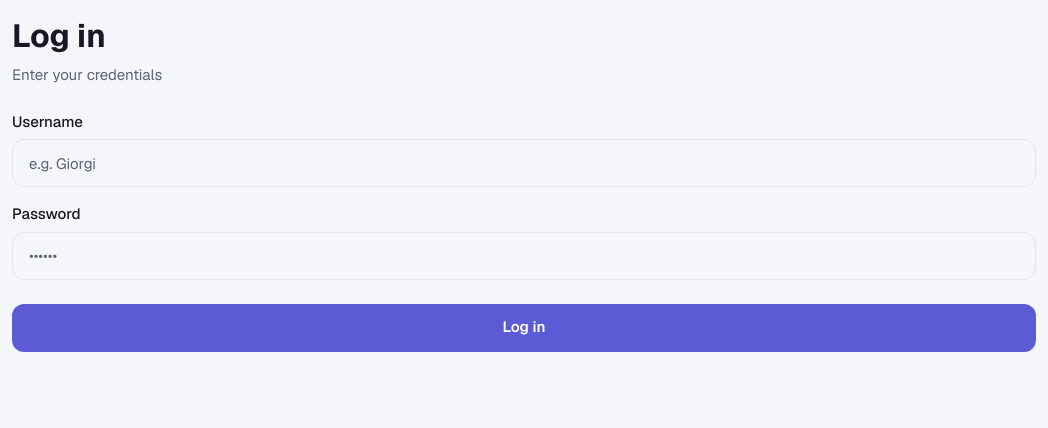
Test: LoginForm › shows an error and clears the password on wrong credentials
In the field labelled "Username": (524, 163) [12,139,1036,187], type "Giorgi"
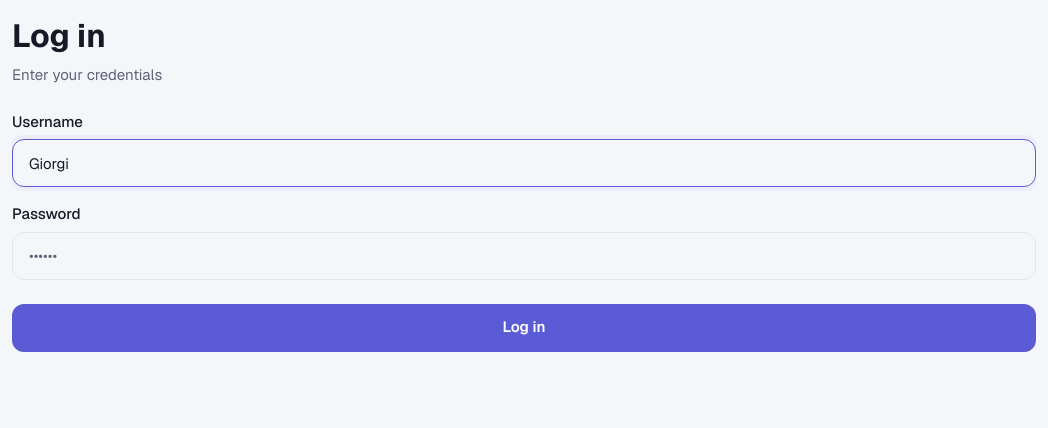
In the password field labelled "Password": (524, 256) [12,232,1036,280], type "wrong"
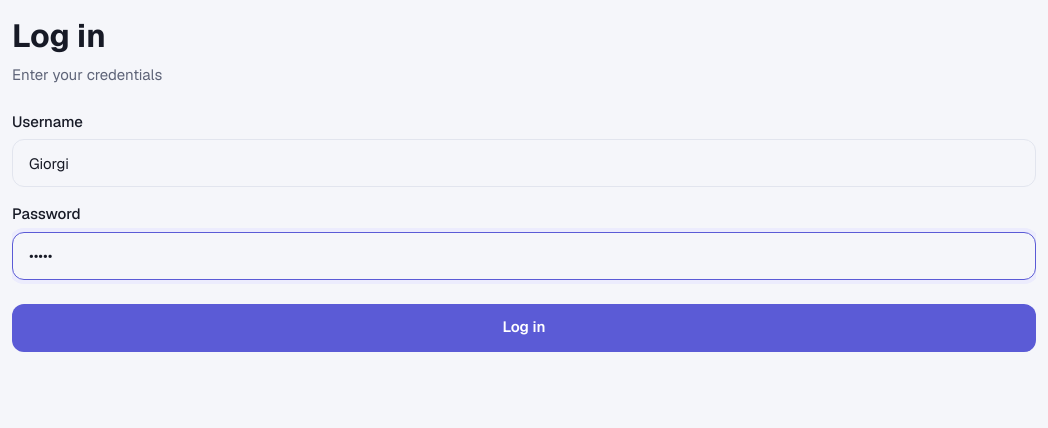
Click the button "Log in": (524, 328) [12,304,1036,352]
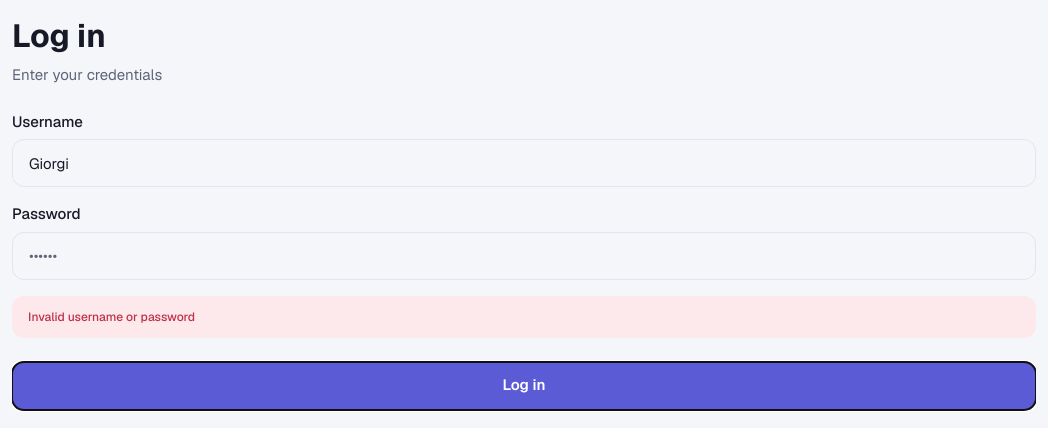
Expected: the text "Invalid username or password" is shown, [12,296,1036,338]
Expected: the password field labelled "Password" is empty, [12,232,1036,280]
